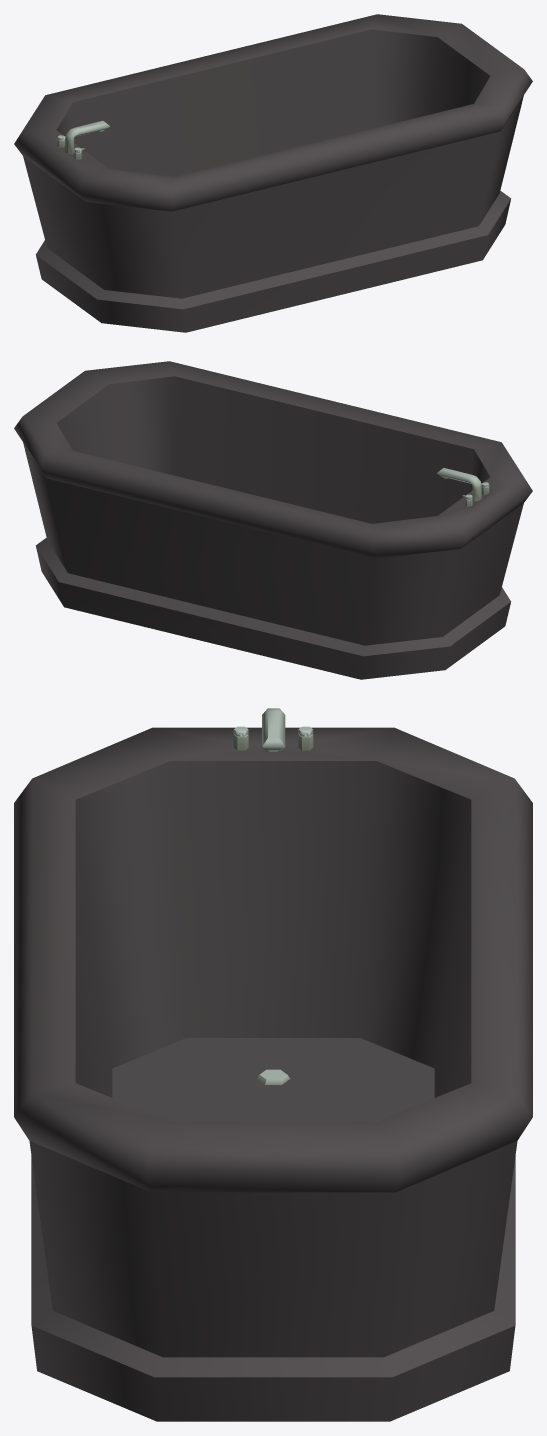
The model's file is SM_Bath_Tub_1_02.fbx.
3 views of the same model, one above another, from view 1: azimuth 30°, elevation 25°; view 2: azimuth 150°, elevation 25°; view 3: azimuth 270°, elevation 25° (orthographic). The views are drawn at different scales.
Parts seen in each view (by area): view 1: SM_Bath_Tub_1_02; view 2: SM_Bath_Tub_1_02; view 3: SM_Bath_Tub_1_02.
Boxes of the visible parts, bbox=[...] form: SM_Bath_Tub_1_02: bbox=[14, 14, 532, 332]; SM_Bath_Tub_1_02: bbox=[14, 361, 532, 679]; SM_Bath_Tub_1_02: bbox=[14, 708, 532, 1421].
Bounding box in the file's own units: 236 × 85.32 × 121.
